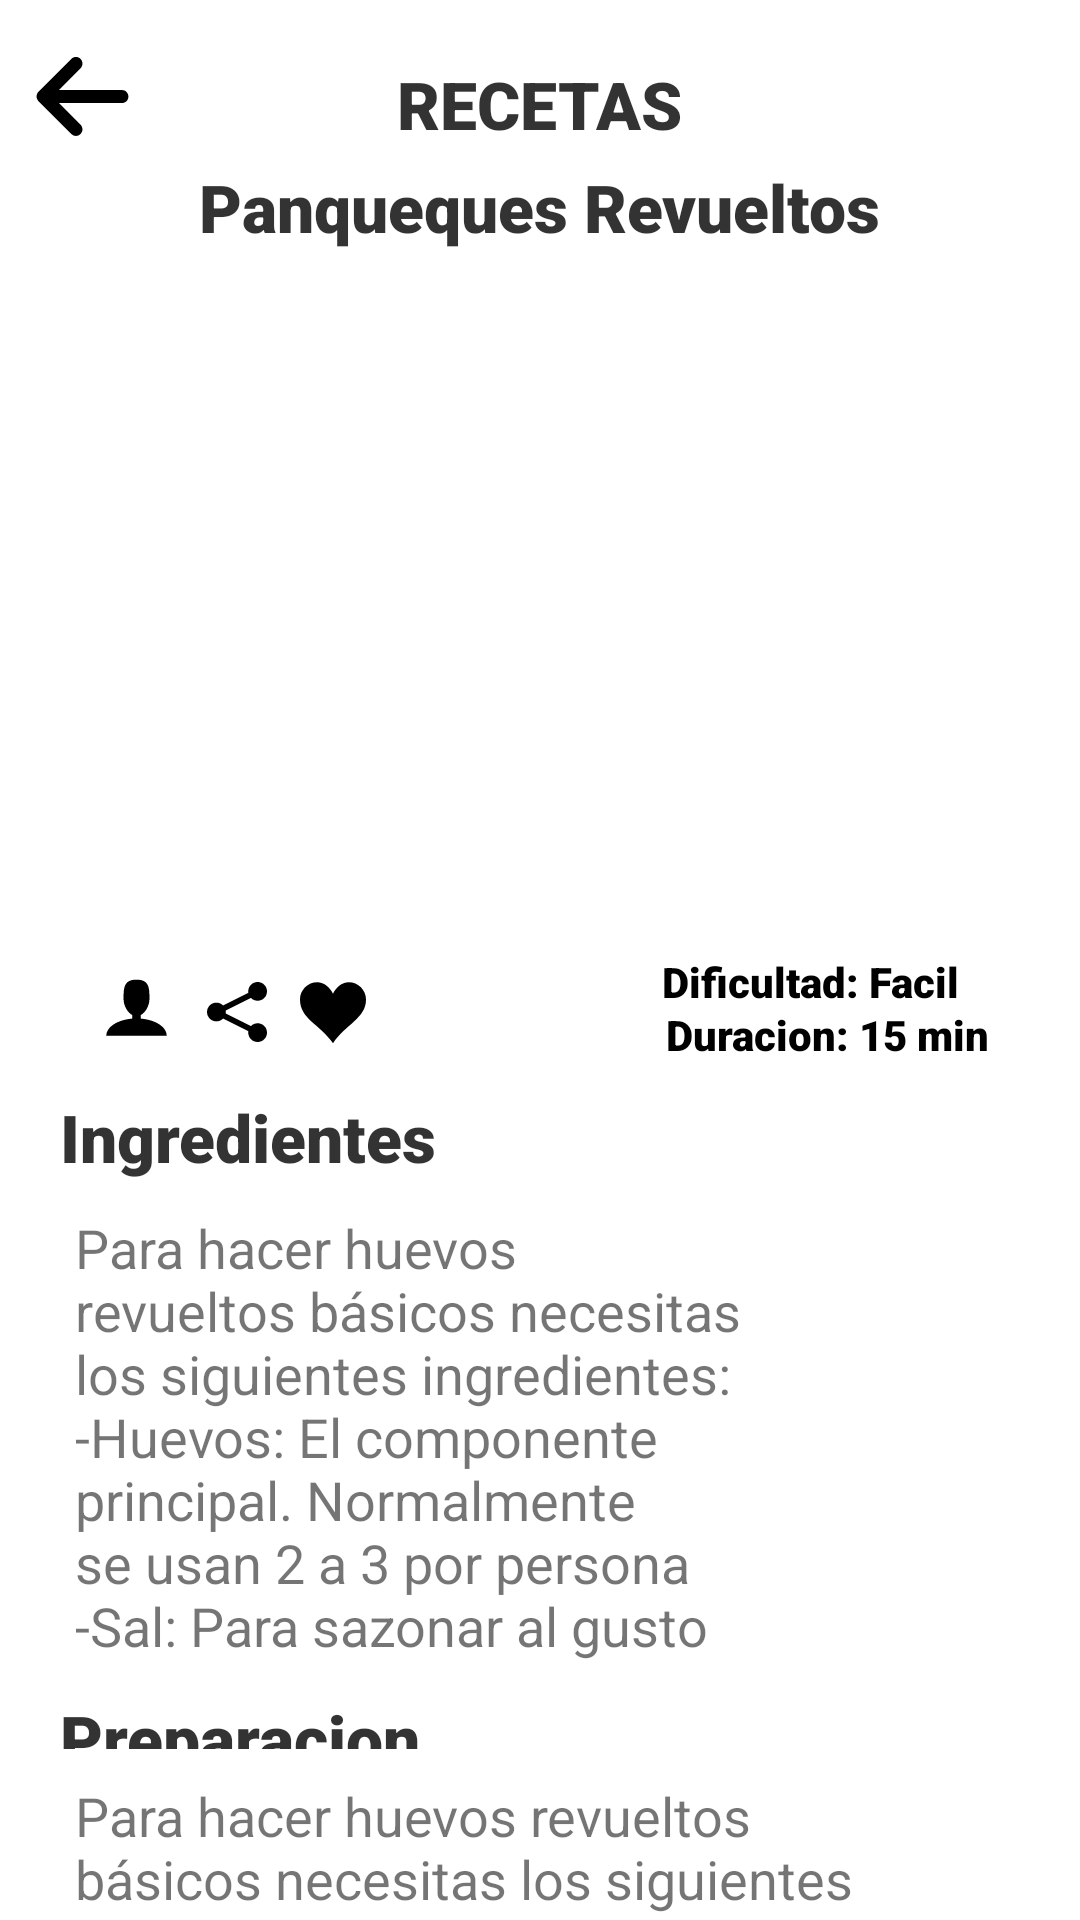

Icons on this 1080*1920 Android screen, each with the point to tap as (x=x, y=y):
atrass: (x=82, y=96)
compartir: (x=237, y=1012)
like: (x=333, y=1012)
userr: (x=136, y=1007)
